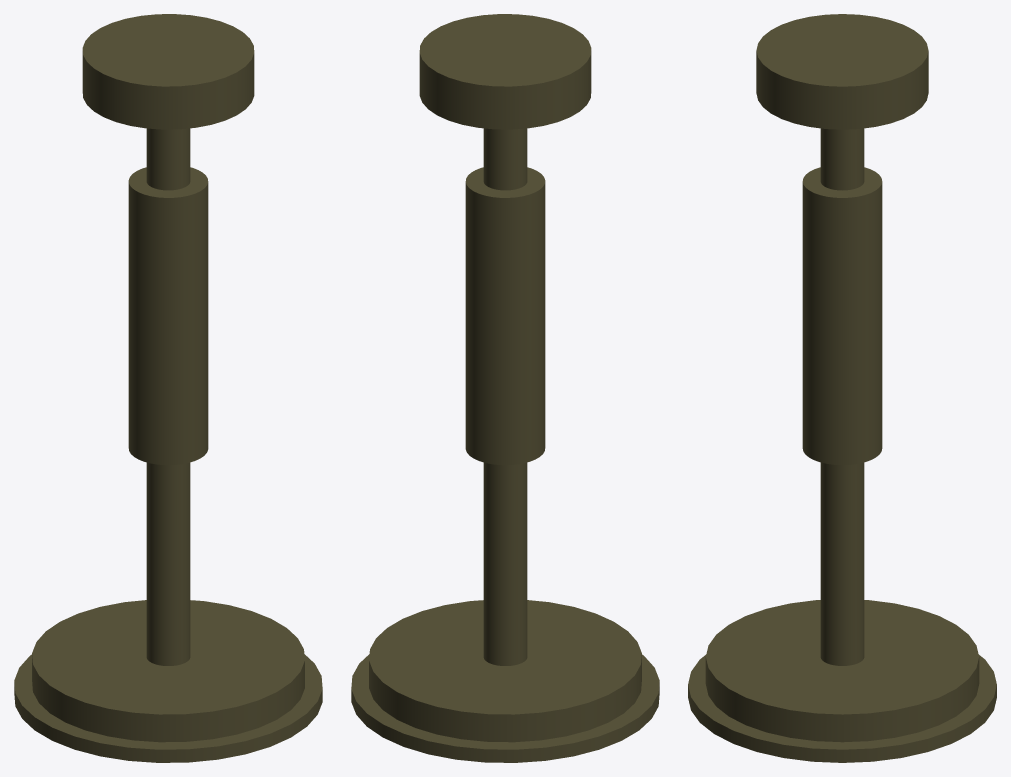
File: Stand.fbx
3 views of the same model, side by side, from view 1: azimuth 30°, elevation 25°; view 2: azimuth 150°, elevation 25°; view 3: azimuth 270°, elevation 25° (orthographic).
Parts seen in each view (by area): view 1: Tiger.001; view 2: Tiger.001; view 3: Tiger.001.
Part boxes in pixels (x1,y1,x2,y2): Tiger.001: [14, 14, 322, 762]; Tiger.001: [351, 14, 659, 762]; Tiger.001: [688, 14, 996, 762].
Size of the model in its own units: 31.51 by 72.87 by 31.51.
